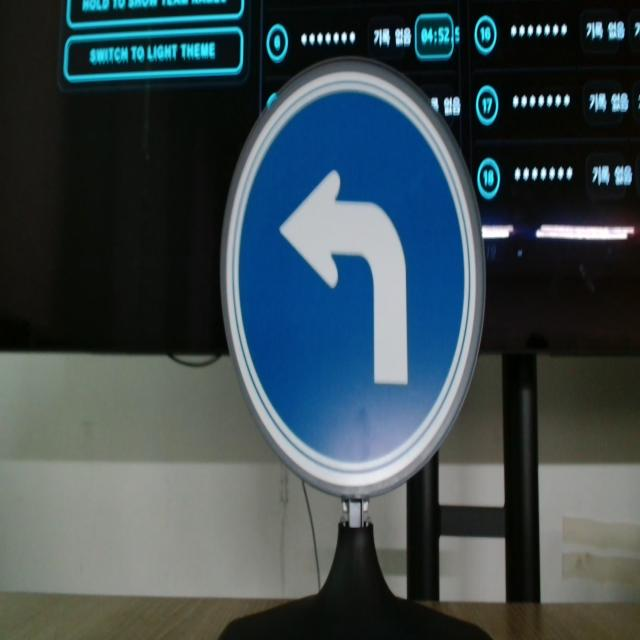left_direction: (214, 53, 484, 502)
